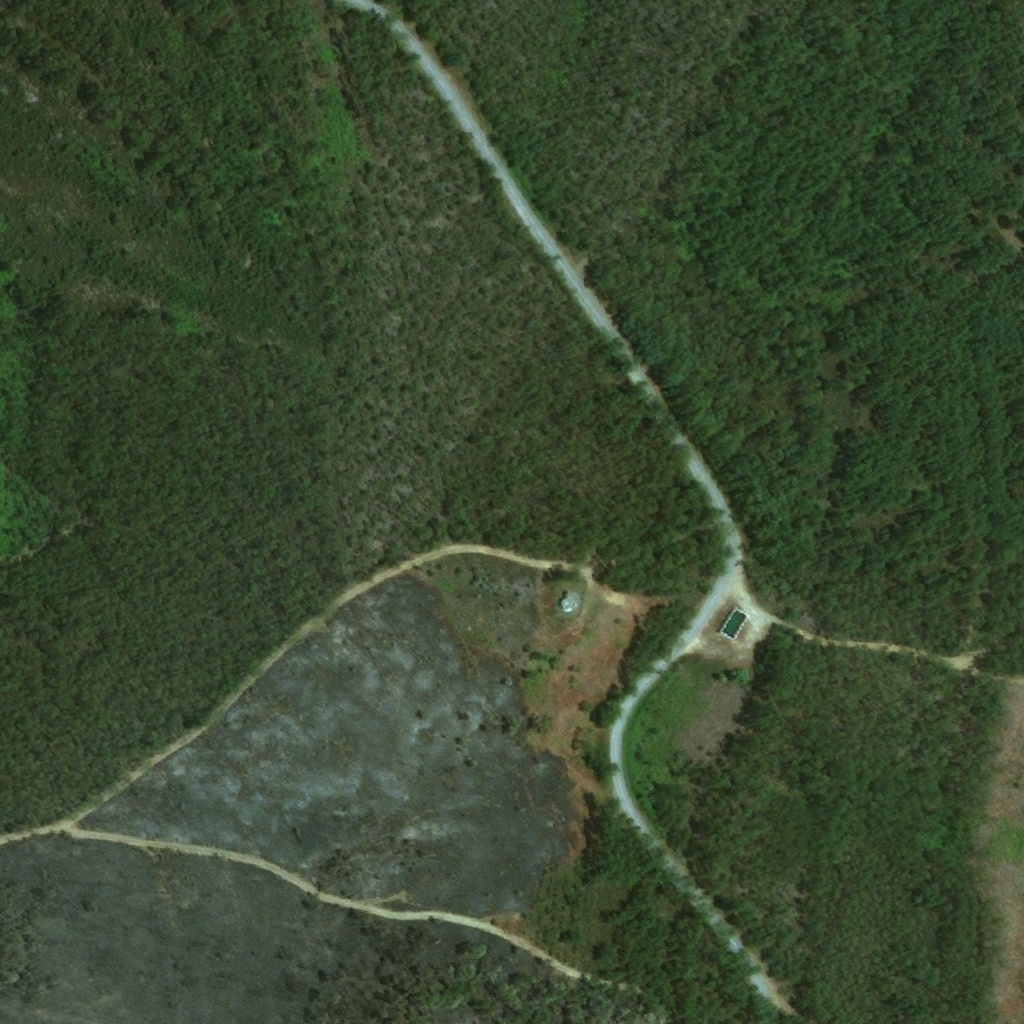0 no-damage: (718, 608, 749, 642), (559, 592, 582, 617)
